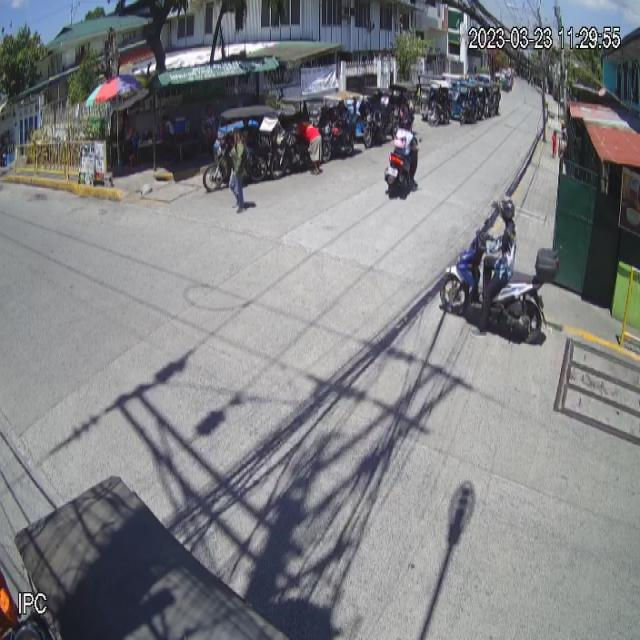Motorcycle: (440, 217, 559, 344)
